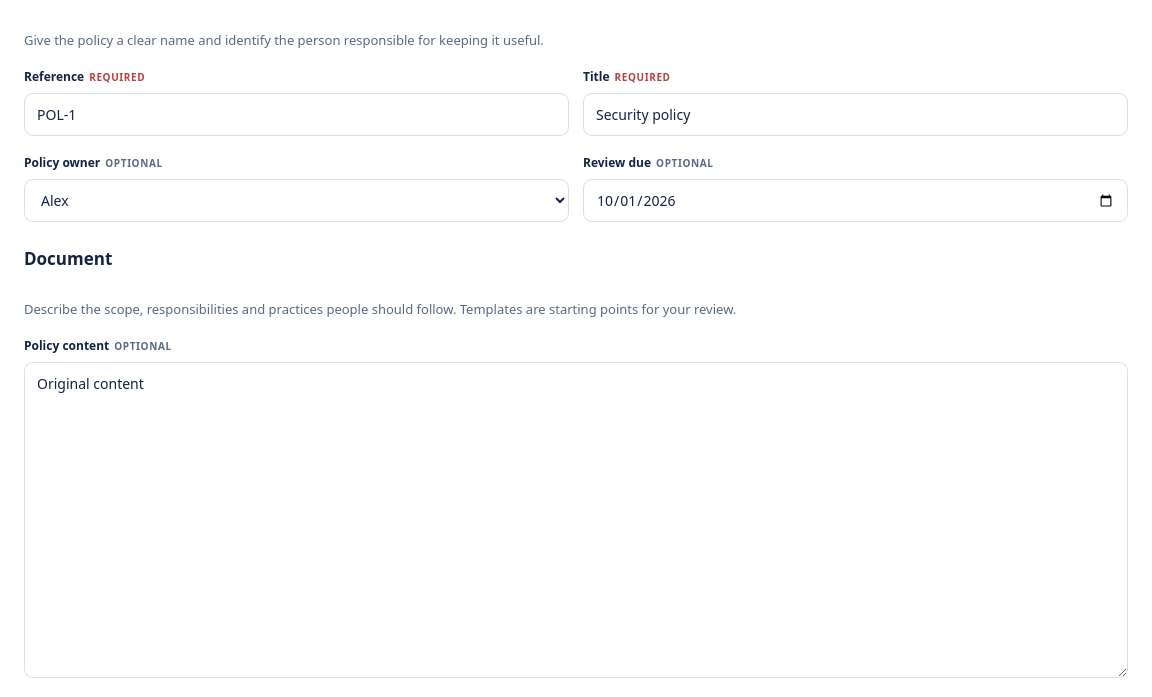
Scenario: keeps edits and explains when the save response is interrupted
This screenshot has width=1152, height=697.
Select "Blair" in the dropdown labelled "Policy owner" at (296, 200), box [24,179,569,222]
(page scrolled)
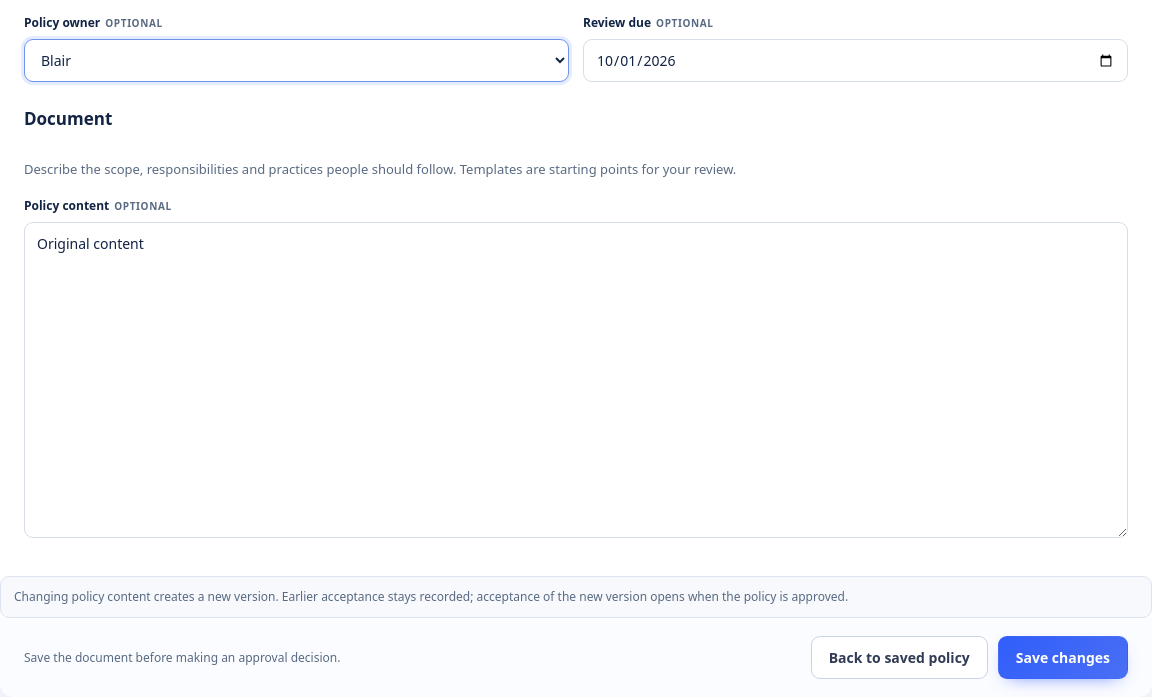
Click the button "Save changes" at (1063, 658), box [998,636,1128,679]
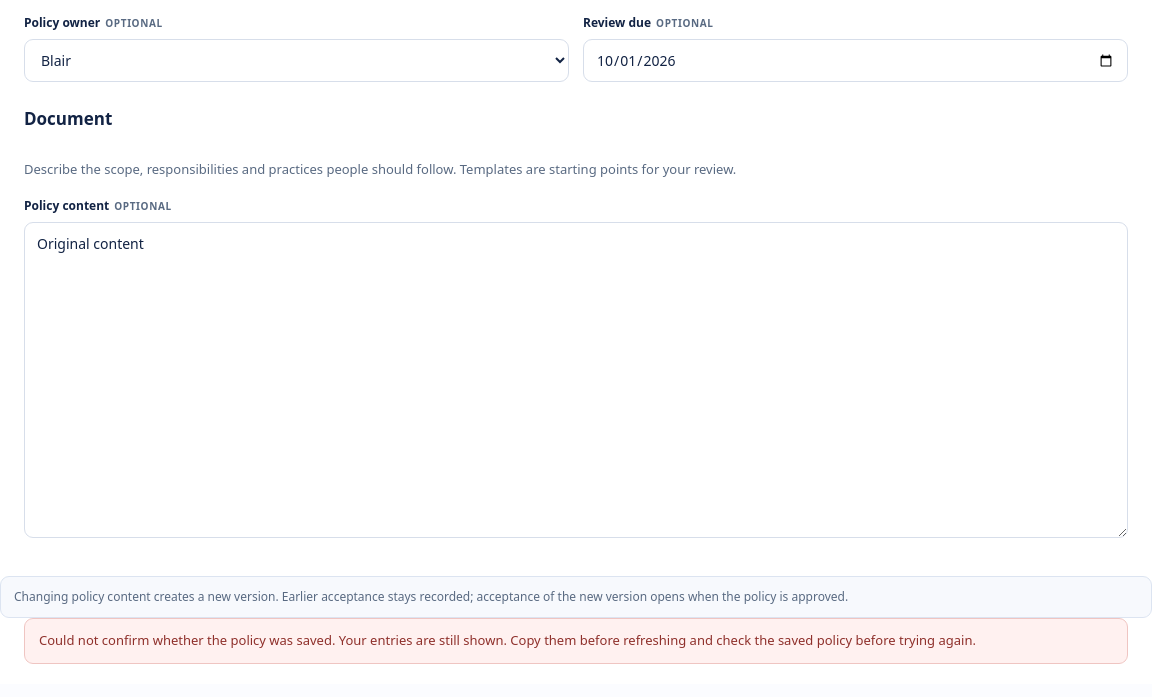
Expected: the message shows "Could not confirm whether the policy was saved", [39,631,976,649]
